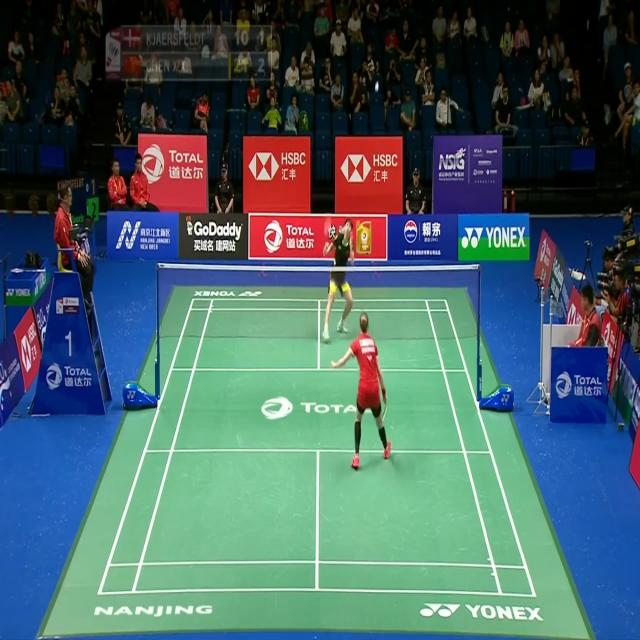Player1: (329, 305, 397, 480)
Player2: (313, 202, 361, 350)
